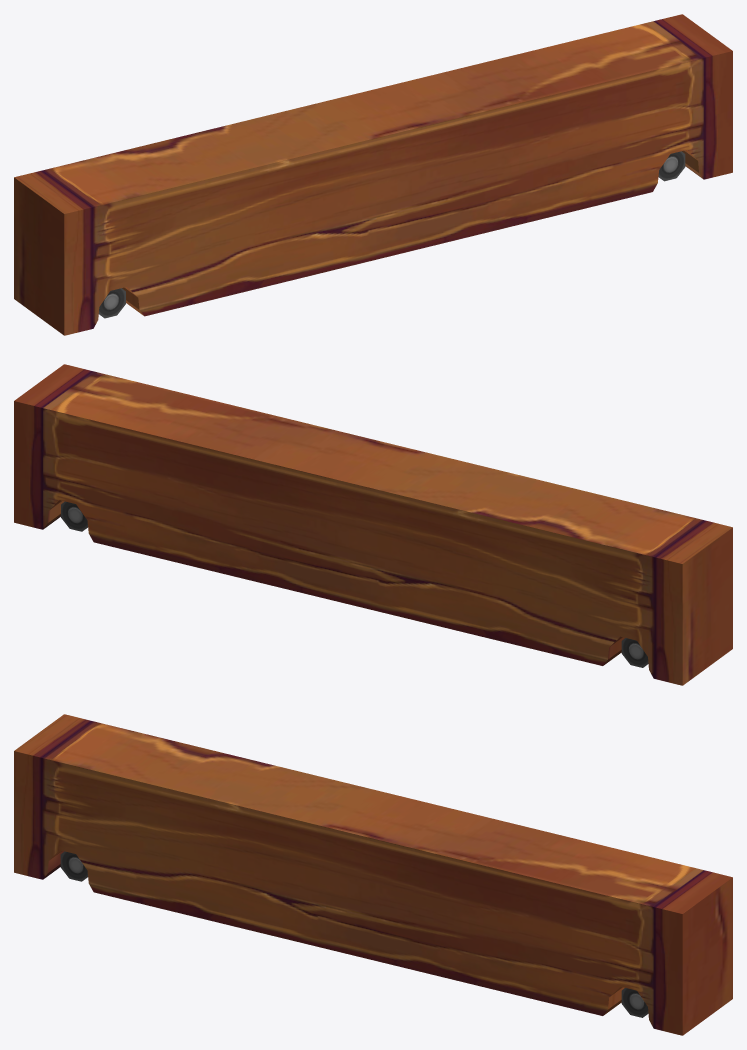
The model's file is dynamic_fence_wood_03.fbx.
3 views of the same model, one above another, from view 1: azimuth 30°, elevation 25°; view 2: azimuth 150°, elevation 25°; view 3: azimuth 330°, elevation 25° (orthographic).
Parts seen in each view (by area): view 1: dynamic_fence_wood_03; view 2: dynamic_fence_wood_03; view 3: dynamic_fence_wood_03.
Part boxes in pixels (<box>): dynamic_fence_wood_03: <box>14,14,732,335</box>; dynamic_fence_wood_03: <box>14,364,732,685</box>; dynamic_fence_wood_03: <box>14,714,732,1035</box>.
Size of the model in its own units: 230 by 40 by 30.25.
